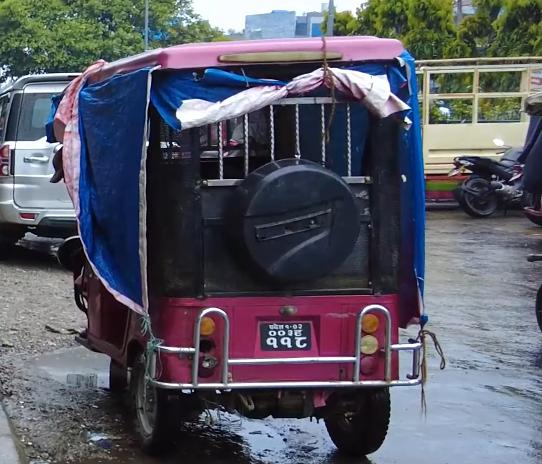SUV: (0, 69, 103, 258)
bike: (446, 136, 542, 219)
e-rickshaw: (50, 25, 440, 464)
